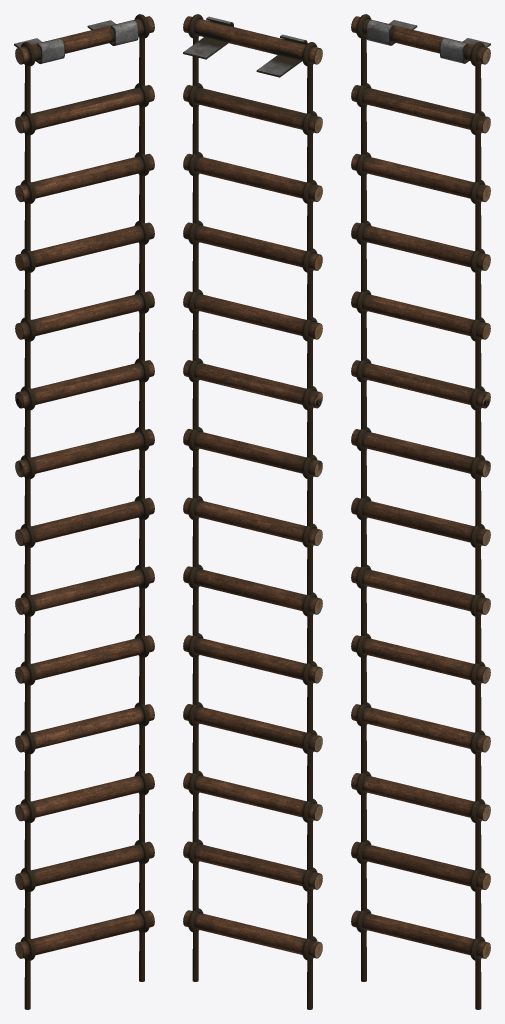
The model's file is floating_bridge.glb.
3 views of the same model, side by side, from view 1: azimuth 30°, elevation 25°; view 2: azimuth 150°, elevation 25°; view 3: azimuth 330°, elevation 25° (orthographic).
Parts seen in each view (by area): view 1: Cube_1; view 2: Cube_1; view 3: Cube_1.
Part boxes in pixels (x1=…): Cube_1: x1=14, y1=14, x2=154, y2=1009; Cube_1: x1=183, y1=14, x2=322, y2=1009; Cube_1: x1=351, y1=14, x2=490, y2=1009.
Bounding box in the file's own units: 0.4996 × 3.51 × 0.1867.
Materials: 1 (1 with a texture image).
